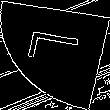L_E: (22, 35, 88, 75)
